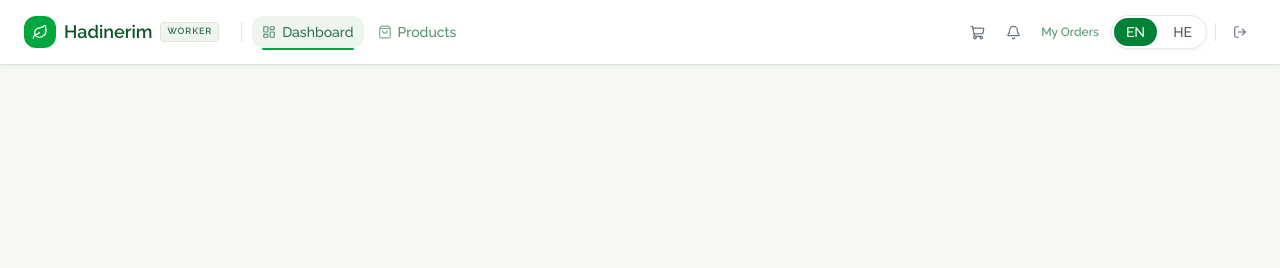
WorkerNavbar — bell / notification panel › shows "Active Tasks" label when no new tasks
What coordinates should you click on to do the following:
click the button named "task notifications"
I would click on:
 (1013, 32)
Its box is [997, 16, 1029, 48].
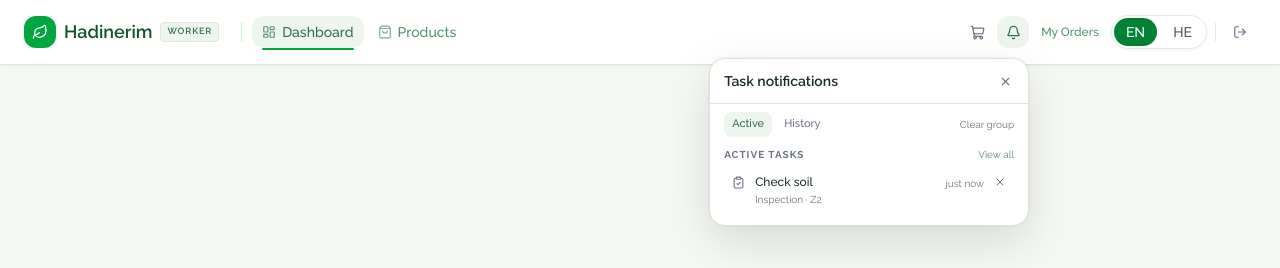
Check: the text "Active Tasks" is shown, box [724, 146, 804, 162]
